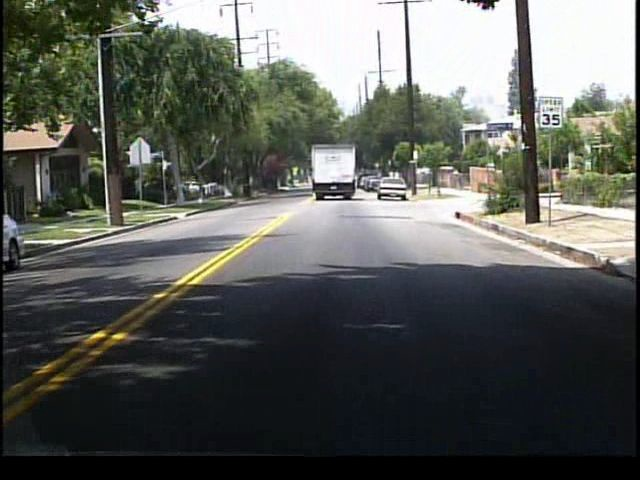person: (450, 165, 461, 190)
